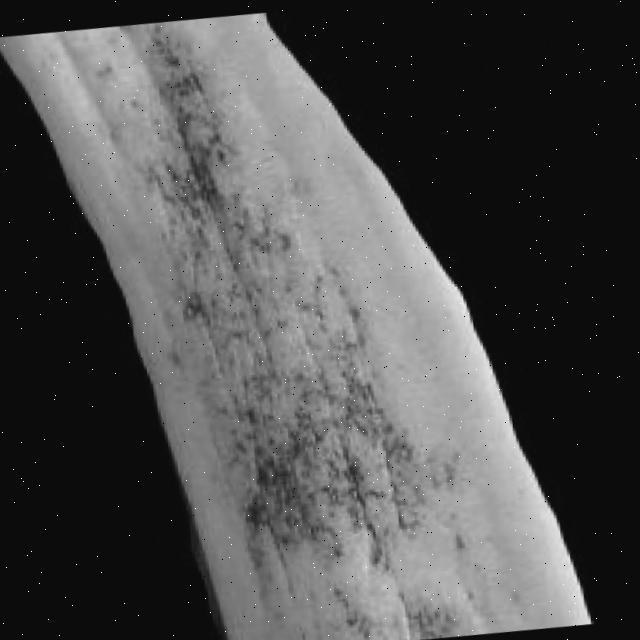mite: (0, 7, 628, 640), (282, 591, 482, 640), (183, 286, 215, 321)
